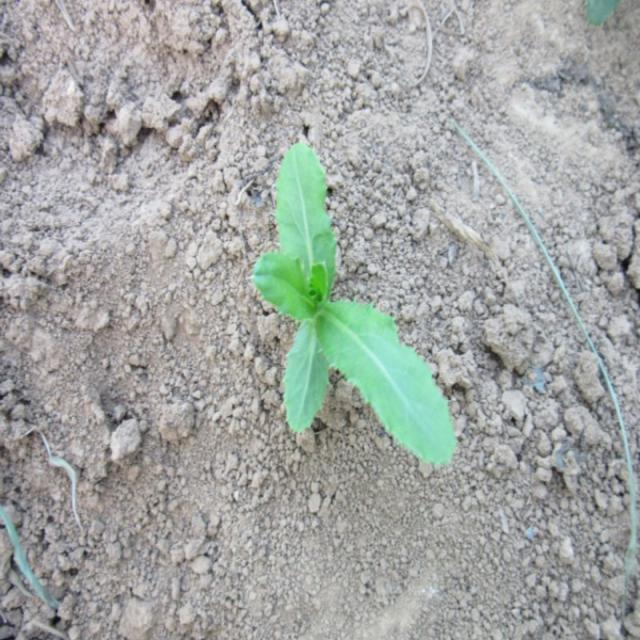cs: (250, 139, 458, 472)
